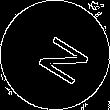N_NW: (23, 24, 87, 86)
